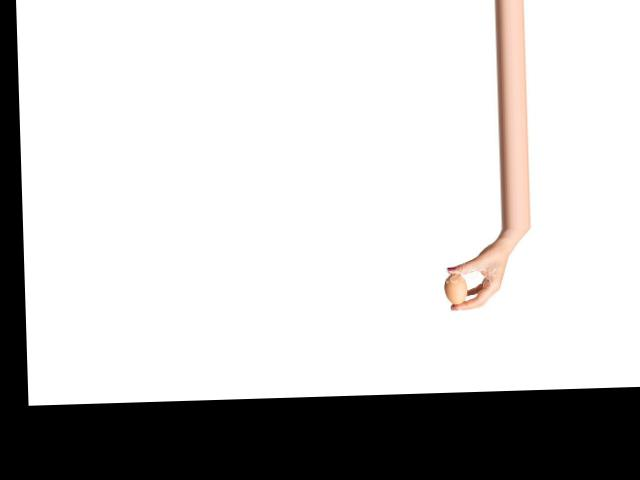egg: (445, 273, 467, 304)
